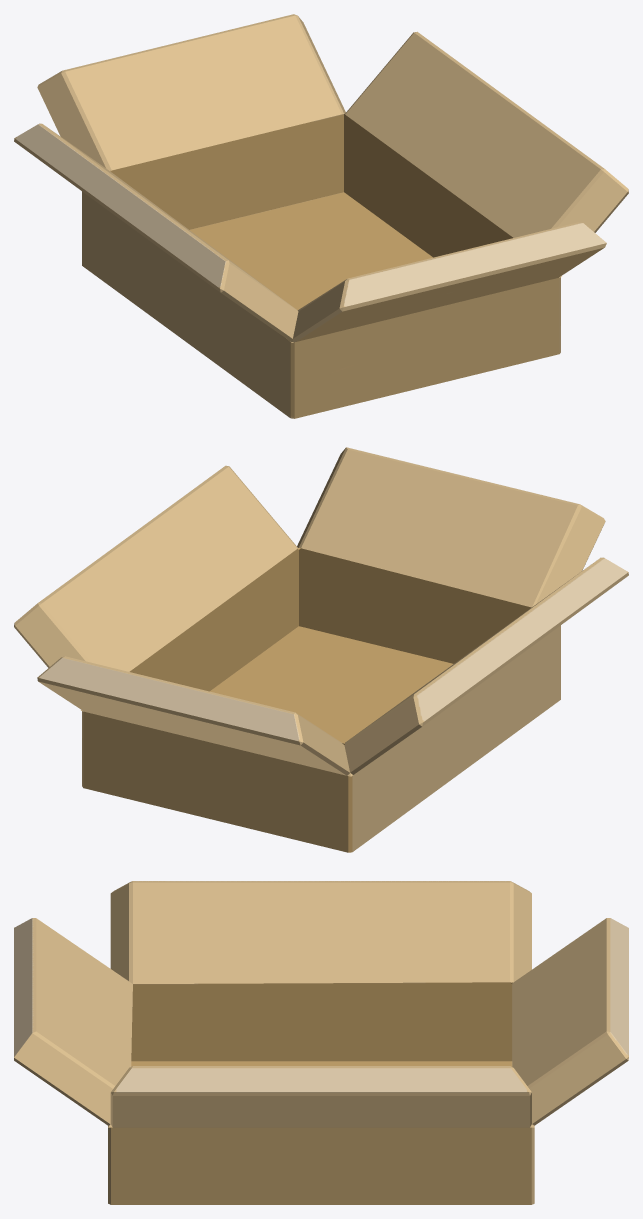
Rendered from package_open.glb.
3 views of the same model, one above another, from view 1: azimuth 30°, elevation 25°; view 2: azimuth 150°, elevation 25°; view 3: azimuth 270°, elevation 25° (orthographic).
Visible parts, largest first — view 1: package open; view 2: package open; view 3: package open.
Boxes of the visible parts, box(x1,y1,x2,y2) form: package open: box(14, 14, 628, 418); package open: box(14, 447, 628, 852); package open: box(14, 881, 628, 1204).
Bounding box in the file's own units: 1.12 × 0.4246 × 1.44.
Materials: 1 (1 with a texture image).
